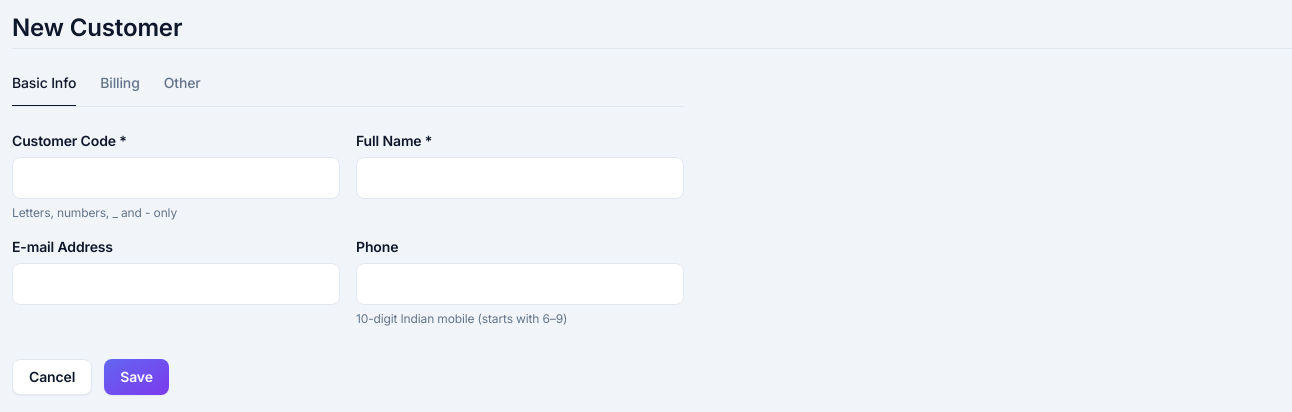
Test case: CustomerFormPage › switches to billing tab
Click the button "Billing" at coordinates (120, 90), box [100,73,140,107]
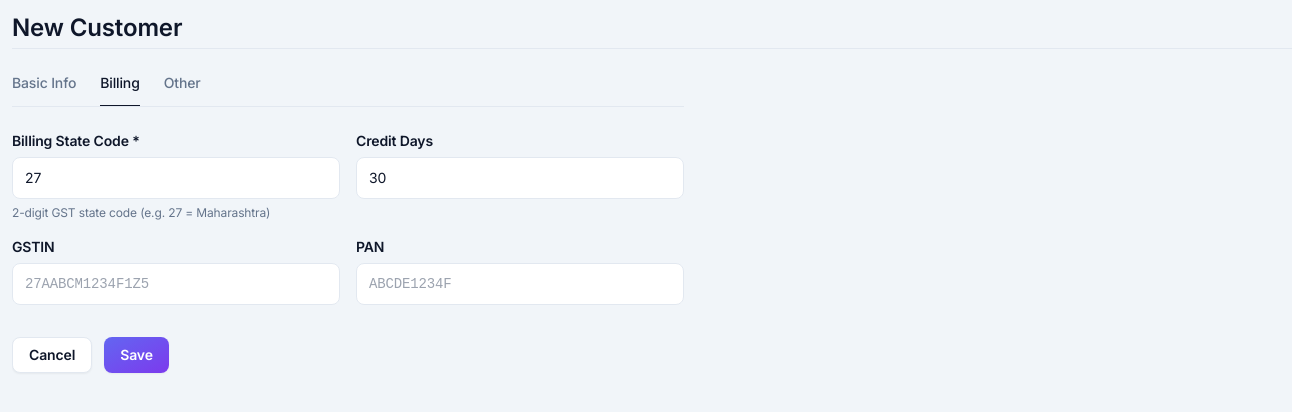
expect the field labelled "Billing State Code *" is shown: met, box [12,157,340,199]
